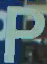Parking: (2, 1, 41, 63)
